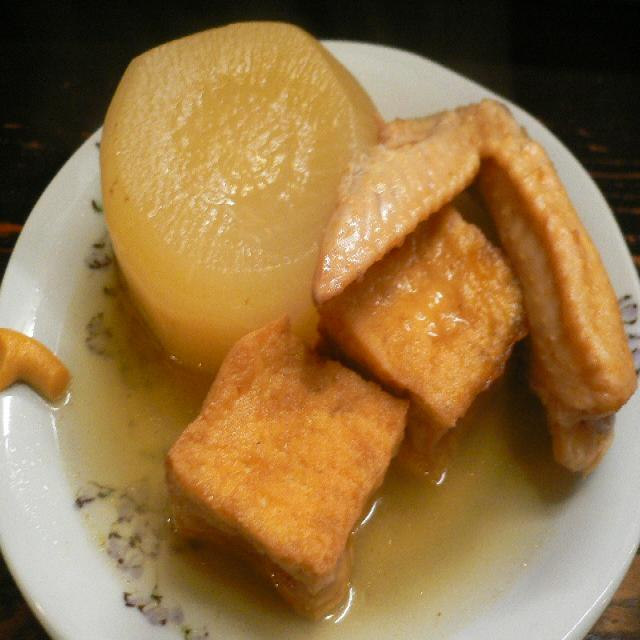汤锅炖物: (93, 0, 634, 629)
